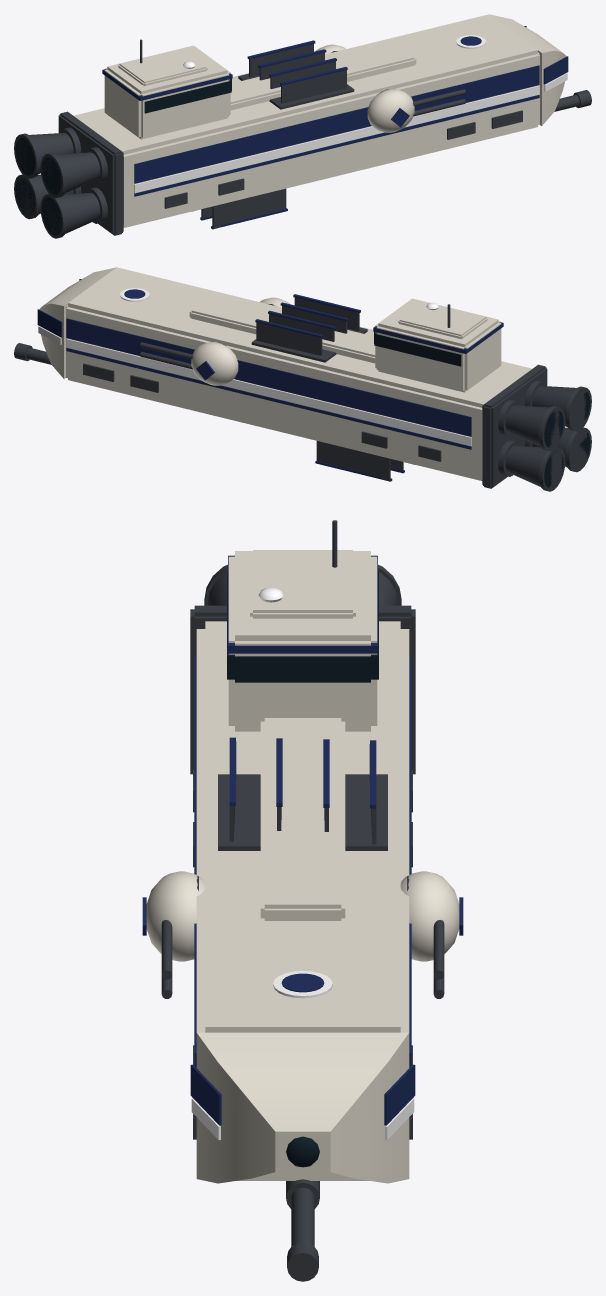
The model's file is corvette.glb.
3 views of the same model, one above another, from view 1: azimuth 30°, elevation 25°; view 2: azimuth 150°, elevation 25°; view 3: azimuth 270°, elevation 25° (orthographic). The views are drawn at different scales.
Visible parts, largest first — view 1: corvette_enamel, corvette_gunmetal, corvette_concord_navy, corvette_stripe_white, corvette_glazing; view 2: corvette_enamel, corvette_gunmetal, corvette_concord_navy, corvette_stripe_white, corvette_glazing; view 3: corvette_enamel, corvette_gunmetal, corvette_concord_navy, corvette_glazing, corvette_stripe_white.
Boxes of the visible parts, box(x1,y1,x2,y2) form: corvette_enamel: box(73, 14, 566, 227); corvette_gunmetal: box(14, 39, 591, 238); corvette_concord_navy: box(102, 26, 568, 229); corvette_stripe_white: box(134, 35, 567, 193); corvette_glazing: box(15, 79, 231, 235); corvette_enamel: box(39, 267, 532, 480); corvette_gunmetal: box(14, 297, 591, 491); corvette_concord_navy: box(37, 279, 503, 481); corvette_stripe_white: box(38, 288, 471, 446); corvette_glazing: box(374, 332, 590, 487); corvette_enamel: box(146, 550, 459, 1183); corvette_gunmetal: box(161, 520, 444, 1281); corvette_concord_navy: box(142, 555, 463, 1125); corvette_glazing: box(227, 572, 378, 1167); corvette_stripe_white: box(191, 587, 414, 1139).
Bounding box in the file's own units: 59.7 × 18.8 × 15.1.
